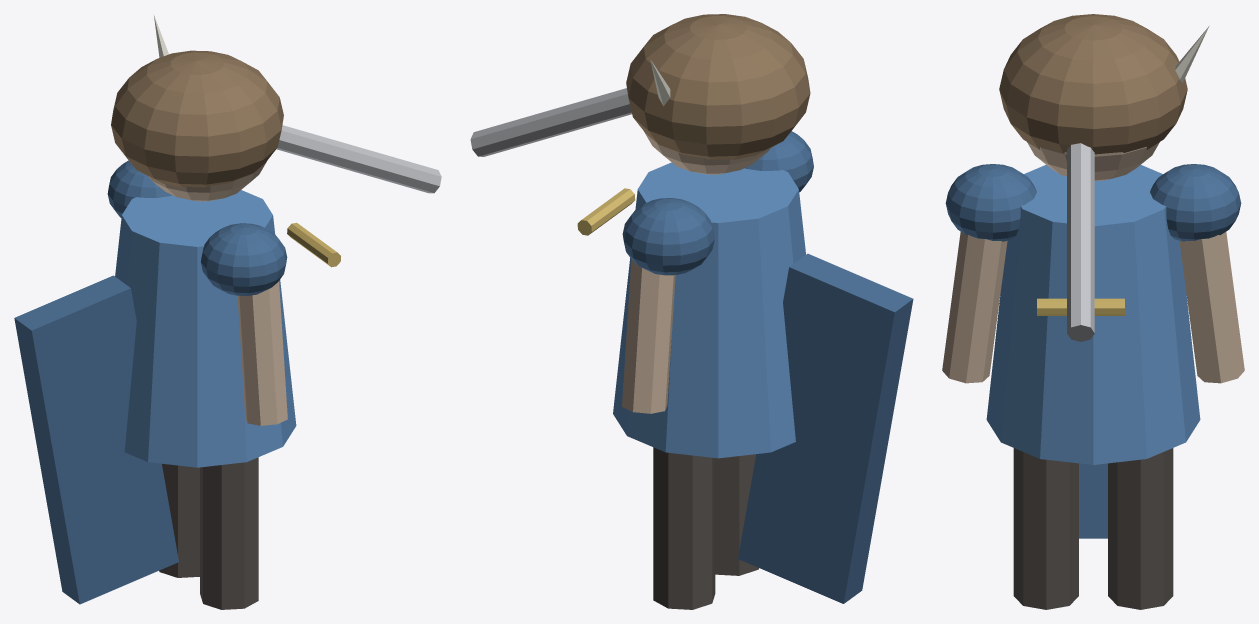
Rendered from hero_aldar_0.glb.
The picture shows the model from 3 angles, left to right: view 1: azimuth 30°, elevation 25°; view 2: azimuth 150°, elevation 25°; view 3: azimuth 270°, elevation 25°; orthographic projection. The views are drawn at different scales.
Visible parts, largest first — view 1: figurka; view 2: figurka; view 3: figurka.
Part boxes in pixels (box(x1,y1,x2,y2)): figurka: box(14, 15, 441, 609); figurka: box(470, 14, 913, 609); figurka: box(942, 14, 1244, 609).
Size of the model in its own units: 0.8134 by 1 by 0.4814.
